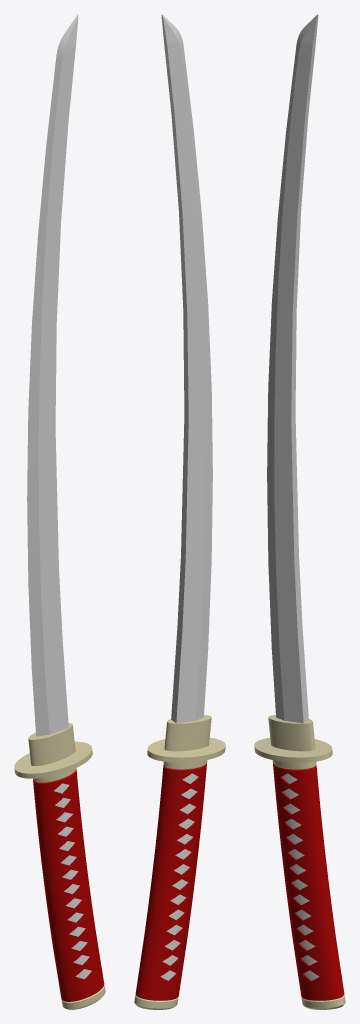
File: Katana.fbx
3 views of the same model, side by side, from view 1: azimuth 30°, elevation 25°; view 2: azimuth 210°, elevation 25°; view 3: azimuth 330°, elevation 25° (orthographic).
Parts seen in each view (by area): view 1: Body; view 2: Body; view 3: Body.
Part boxes in pixels (x1,y1,x2,y2): Body: [14, 14, 105, 1009]; Body: [134, 14, 225, 1009]; Body: [254, 14, 345, 1009].
Size of the model in its own units: 12.37 by 133 by 6.23.
